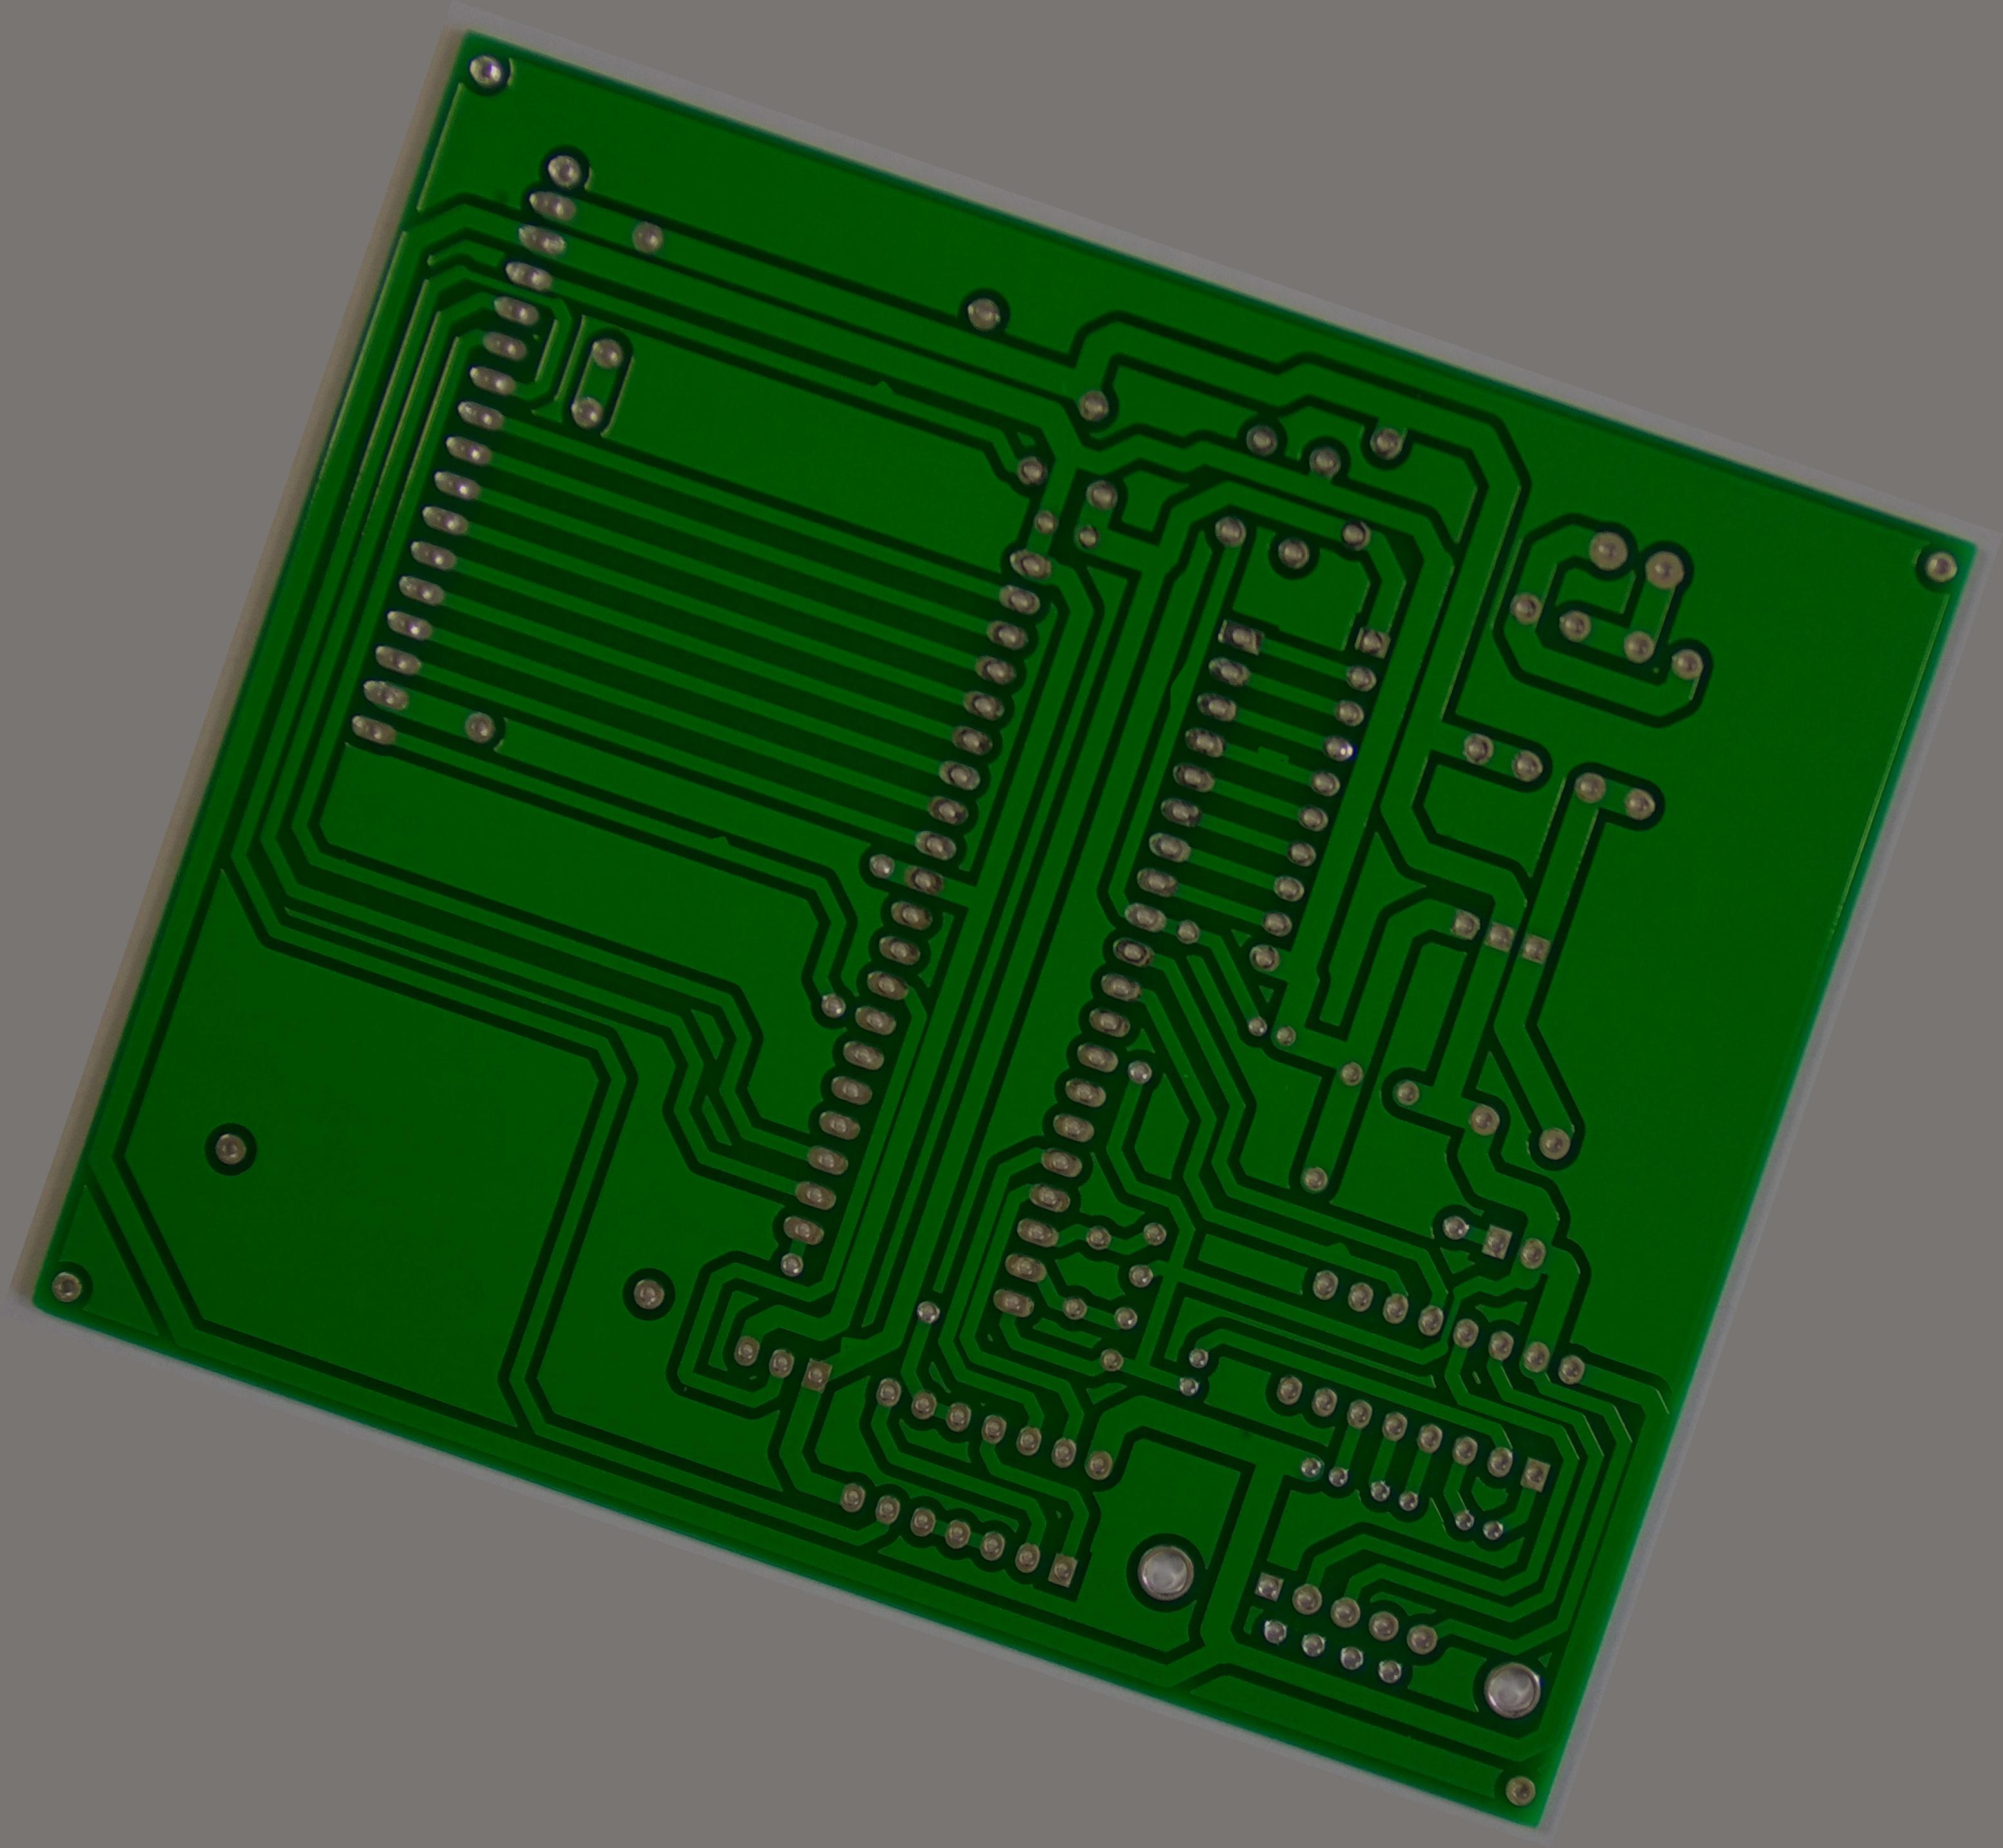spur: (1157, 654, 1202, 721), (1242, 731, 1303, 777), (694, 818, 742, 862), (857, 366, 904, 405), (1319, 1230, 1363, 1267)
